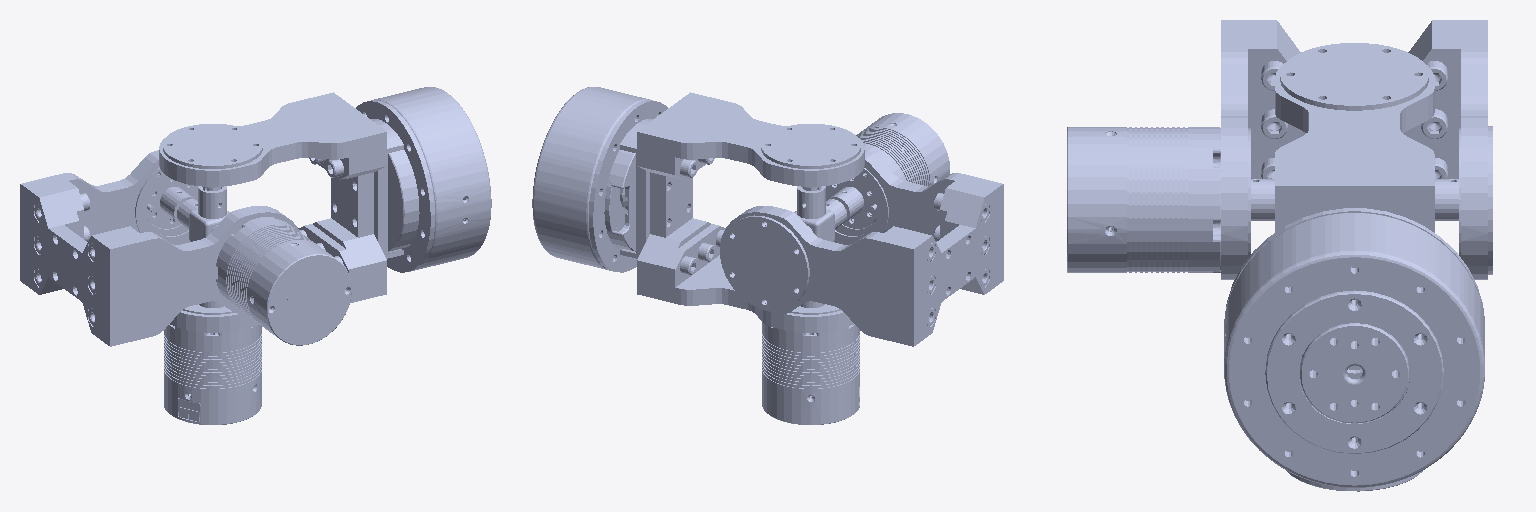
URDF robot description (LRMate_with_EndEffector):
<?xml version="1.0"?>
<robot name="LRMate_with_EndEffector">
	<material name="Yellow">
		<color rgba="1.0  1.0  0.0  1.0"/>
	</material>
	<material name="Black">
		<color rgba="0.0  0.0  0.0  1.0"/>
	</material>
	<material name="Gray">
		<color rgba="0.5  0.5  0.5  1.0"/>
	</material>
	<material name="White">
		<color rgba="1.0  1.0  1.0  1.0"/>
	</material>

	<link name="base">
		<inertial>
			<origin xyz="0.0  0.0  0.0" rpy="0.0  0.0  0.0"/>
			<mass value="0.1"/>
			<inertia ixx="0.0"  ixy="0.0"  ixz="0.0" iyy="0.0" iyz="0.0" izz="0.0" />
		</inertial>
		<visual name="base">
			<origin xyz="0.000   0.000   0.330" rpy="0.0  0.0  0.0"/>
			<geometry>
				<mesh filename="CAD/base.stl" scale="0.001   0.001   0.001"/>
			</geometry>
			<material name="Gray"/>
		</visual>
		<collision>
			<origin xyz="0.000   0.000   0.330" rpy="0.0  0.0  0.0"/>
			<geometry>
				<mesh filename="CAD/base.stl" scale="0.001   0.001   0.001"/>
			</geometry>
		</collision>
	</link>
	<joint name="joint_1" type="revolute">
		<origin xyz="0.000   0.000   0.330" rpy="0.0000000000000000    0.0000000000000000    0.0000000000000000"/>
		<parent link="base"/>
		<child link="link_1"/>
		<axis xyz="0 0 1"/>
		<limit effort="224.1470270270270646" lower="-3.1415926535897931" upper="3.1415926535897931" velocity="0.8726646259971648"/>
	</joint>
	<link name="link_1">
		<inertial>
			<origin xyz="0.0185909590000000    0.0033700950000000   -0.0770907100000000" rpy="-1.5707963267948966    0.0000000000000000    0.0000000000000000"/>
			<mass value="2.3984700000000001"/>
			<inertia ixx="0.0233179728630000"  ixy="0.0000000000000000"  ixz="0.0000000000000000" iyy="0.0193776178710000" iyz="0.0000000000000000" izz="0.0139141526340000" />
		</inertial>
		<visual name="link_1">
			<origin xyz="0.050   0.000   0.000" rpy="-1.5707963267948966    0.0000000000000000    0.0000000000000000"/>
			<geometry>
				<mesh filename="CAD/link1.stl" scale="0.001   0.001   0.001"/>
			</geometry>
			<material name="Yellow"/>
		</visual>
		<collision>
			<origin xyz="0.050   0.000   0.000" rpy="-1.5707963267948966    0.0000000000000000    0.0000000000000000"/>
			<geometry>
				<mesh filename="CAD/link1.stl" scale="0.001   0.001   0.001"/>
			</geometry>
		</collision>
	</link>
	<joint name="joint_2" type="revolute">
		<origin xyz="0.050   0.000   0.000" rpy="-1.5707963267948966    0.0000000000000000    0.0000000000000000"/>
		<parent link="link_1"/>
		<child link="link_2"/>
		<axis xyz="0 0 1"/>
		<limit effort="236.6760000000000161" lower="-3.1415926535897931" upper="3.1415926535897931" velocity="0.8726646259971648"/>
	</joint>
	<link name="link_2">
		<inertial>
			<origin xyz="-0.0071079890000000   -0.1326139250000000    0.0247800790000000" rpy="3.1415926535897931    0.0000000000000000   -1.5707963267948966"/>
			<mass value="7.8018689999999999"/>
			<inertia ixx="0.0328971739050000"  ixy="0.0000000000000000"  ixz="0.0000000000000000" iyy="0.2070365793270000" iyz="0.0000000000000000" izz="0.1883991938960000" />
		</inertial>
		<visual name="link_2">
			<origin xyz="0.000  -0.440   0.000" rpy="3.1415926535897931    0.0000000000000000   -1.5707963267948966"/>
			<geometry>
				<mesh filename="CAD/link2.stl" scale="0.001   0.001   0.001"/>
			</geometry>
			<material name="Yellow"/>
		</visual>
		<collision>
			<origin xyz="0.000  -0.440   0.000" rpy="3.1415926535897931    0.0000000000000000   -1.5707963267948966"/>
			<geometry>
				<mesh filename="CAD/link2.stl" scale="0.001   0.001   0.001"/>
			</geometry>
		</collision>
	</link>
	<joint name="joint_3" type="revolute">
		<origin xyz="0.000  -0.440   0.000" rpy="3.1415926535897931    0.0000000000000000   -1.5707963267948966"/>
		<parent link="link_2"/>
		<child link="link_3"/>
		<axis xyz="0 0 1"/>
		<limit effort="94.9241379310344939" lower="-3.1415926535897931" upper="3.1415926535897931" velocity="0.8726646259971648"/>
	</joint>
	<link name="link_3">
		<inertial>
			<origin xyz="0.0057931330000000   -0.0059066300000000   -0.0207324280000000" rpy="-1.5707963267948966    0.0000000000000000    0.0000000000000000"/>
			<mass value="2.9847210000000000"/>
			<inertia ixx="0.0081019474240000"  ixy="0.0000000000000000"  ixz="0.0000000000000000" iyy="0.0068697082660000" iyz="0.0000000000000000" izz="0.0079818513480000" />
		</inertial>
		<visual name="link_3">
			<origin xyz="0.035   0.000   0.000" rpy="-1.5707963267948966    0.0000000000000000    0.0000000000000000"/>
			<geometry>
				<mesh filename="CAD/link3.stl" scale="0.001   0.001   0.001"/>
			</geometry>
			<material name="Yellow"/>
		</visual>
		<collision>
			<origin xyz="0.035   0.000   0.000" rpy="-1.5707963267948966    0.0000000000000000    0.0000000000000000"/>
			<geometry>
				<mesh filename="CAD/link3.stl" scale="0.001   0.001   0.001"/>
			</geometry>
		</collision>
	</link>
	<joint name="joint_4" type="revolute">
		<origin xyz="0.035   0.000   0.000" rpy="-1.5707963267948966    0.0000000000000000    0.0000000000000000"/>
		<parent link="link_3"/>
		<child link="link_4"/>
		<axis xyz="0 0 1"/>
		<limit effort="23.8998260869565229" lower="-3.1415926535897931" upper="3.1415926535897931" velocity="0.8726646259971648"/>
	</joint>
	<link name="link_4">
		<inertial>
			<origin xyz="-0.0002457140000000    0.0028224150000000   -0.2060611280000000" rpy="1.5707963267948966    0.0000000000000000    0.0000000000000000"/>
			<mass value="4.1441780000000001"/>
			<inertia ixx="0.0529101059260000"  ixy="0.0000000000000000"  ixz="0.0000000000000000" iyy="0.0057046189630000" iyz="0.0000000000000000" izz="0.0531509714450000" />
		</inertial>
		<visual name="link_4">
			<origin xyz="0.000   0.000  -0.420" rpy="1.5707963267948966    0.0000000000000000    0.0000000000000000"/>
			<geometry>
				<mesh filename="CAD/link4.stl" scale="0.001   0.001   0.001"/>
			</geometry>
			<material name="Yellow"/>
		</visual>
		<collision>
			<origin xyz="0.000   0.000  -0.420" rpy="1.5707963267948966    0.0000000000000000    0.0000000000000000"/>
			<geometry>
				<mesh filename="CAD/link4.stl" scale="0.001   0.001   0.001"/>
			</geometry>
		</collision>
	</link>
	<joint name="joint_5" type="revolute">
		<origin xyz="0.000   0.000  -0.420" rpy="1.5707963267948966    0.0000000000000000    0.0000000000000000"/>
		<parent link="link_4"/>
		<child link="link_5"/>
		<axis xyz="0 0 1"/>
		<limit effort="13.8166666666666664" lower="-3.1415926535897931" upper="3.1415926535897931" velocity="0.8726646259971648"/>
	</joint>
	<link name="link_5">
		<inertial>
			<origin xyz="0.0000480440000000   -0.0273839680000000   -0.0044381510000000" rpy="-1.5707963267948966    0.0000000000000000    0.0000000000000000"/>
			<mass value="1.7004200000000000"/>
			<inertia ixx="0.0024795564500000"  ixy="0.0000000000000000"  ixz="0.0000000000000000" iyy="0.0024375453070000" iyz="0.0000000000000000" izz="0.0012003431970000" />
		</inertial>
		<visual name="link_5">
			<origin xyz="0.000   0.000   0.000" rpy="-1.5707963267948966    0.0000000000000000    0.0000000000000000"/>
			<geometry>
				<mesh filename="CAD/link5.stl" scale="0.001   0.001   0.001"/>
			</geometry>
			<material name="Yellow"/>
		</visual>
		<collision>
			<origin xyz="0.000   0.000   0.000" rpy="-1.5707963267948966    0.0000000000000000    0.0000000000000000"/>
			<geometry>
				<mesh filename="CAD/link5.stl" scale="0.001   0.001   0.001"/>
			</geometry>
		</collision>
	</link>

	<joint name="joint_6" type="revolute">
		<origin xyz="0.000   0.000   0.000" rpy="-1.5707963267948966    0.0000000000000000    0.0000000000000000"/>
		<parent link="link_5"/>
		<child link="link_6"/>
		<axis xyz="0 0 1"/>
		<limit effort="6.8606896551724139" lower="-3.1415926535897931" upper="3.1415926535897931" velocity="0.8726646259971648"/>
	</joint>

	<link name="link_6">
		<inertial>
			<origin xyz="-0.0001200000000000    0.0000000000000000   -0.0705300000000000" rpy="3.1415926535897931    0.0000000000000000    0.0000000000000000"/>
			<mass value="0.1700000000000000"/>
			<inertia ixx="0.0000318000000000"  ixy="0.0000000000000000"  ixz="0.0000000000000000" iyy="0.0000315000000000" iyz="0.0000000000000000" izz="0.0000542000000000" />
		</inertial>
		<visual name="link_6">
			<origin xyz="0.000   0.000  -0.080" rpy="3.1415926535897931    0.0000000000000000    0.0000000000000000"/>
			<geometry>
				<mesh filename="CAD/link6.stl" scale="0.001   0.001   0.001"/>
			</geometry>
			<material name="Black"/>
		</visual>
		<collision>
			<origin xyz="0.000   0.000  -0.080" rpy="3.1415926535897931    0.0000000000000000    0.0000000000000000"/>
			<geometry>
				<mesh filename="CAD/link6.stl" scale="0.001   0.001   0.001"/>
			</geometry>
		</collision>
	</link>

	<link
			name="link_7">
			<inertial>
				<origin
					xyz="-0.000171290787506451 -0.0126337869897863 -0.0467905644521243"
					rpy="0 0 0" />
				<mass
					value="0.202658732194319" />
				<inertia
					ixx="0.000178003296111042"
					ixy="-7.20767067814015E-07"
					ixz="3.28576002264937E-08"
					iyy="0.000173700123084307"
					iyz="-4.75095298964073E-08"
					izz="0.000101568163160412" />
			</inertial>
			<visual>
				<origin
					xyz="0 0 0"
					rpy="0 0 0" />
				<geometry>
					<mesh
						filename="meshes/unijoint_base_link.STL" />
				</geometry>
				<material
					name="">
					<color
						rgba="0.792156862745098 0.819607843137255 0.933333333333333 1" />
				</material>
			</visual>
			<collision>
				<origin
					xyz="0 0 0"
					rpy="0 0 0" />
				<geometry>
					<mesh
						filename="meshes/unijoint_base_link.STL" />
				</geometry>
			</collision>
		</link>

		<joint name="joint_7" type="fixed">
			<origin xyz="0.0 0.0 -0.08" rpy="0.0 0.0 0.0"/>
			<parent link="link_6"/>
			<child link="link_7"/>
			<axis xyz="0 0 1"/>
			<limit effort="6.8606896551724139" lower="-3.1415926535897931" upper="3.1415926535897931" velocity="0.8726646259971648"/>
		</joint>

		<link
			name="link_8">
			<inertial>
				<origin
					xyz="6.79051554077492E-05 -0.00575946100172549 -0.00575946138603641"
					rpy="0 0 0" />
				<mass
					value="0.0524745804717827" />
				<inertia
					ixx="6.69135756757865E-06"
					ixy="2.56259864151031E-10"
					ixz="-2.56307038990551E-10"
					iyy="5.48021043899282E-06"
					iyz="2.43027171047389E-15"
					izz="5.48021043899282E-06" />
			</inertial>
			<visual>
				<origin
					xyz="0 0 0"
					rpy="0 3.1415926535897931 0" />
				<geometry>
					<mesh
						filename="meshes/unijoint_Link1.STL" />
				</geometry>
				<material
					name="">
					<color
						rgba="0.792156862745098 0.819607843137255 0.933333333333333 1" />
				</material>
			</visual>
			<collision>
				<origin
					xyz="0 0 0"
					rpy="0 0 0" />
				<geometry>
					<mesh
						filename="meshes/unijoint_Link1.STL" />
				</geometry>
			</collision>
		</link>

		<joint
			name="joint_8"
			type="revolute">
			<origin
				xyz="0 0 -0.094926"
				rpy="1.5708 1.5708 0" />
			<parent
				link="link_7" />
			<child
				link="link_8" />
			<axis
				xyz="0 0 1" />
			<limit effort="6.8606896551724139" lower="-3.1415926535897931" upper="3.1415926535897931" velocity="0.8726646259971648"/>
		</joint>

   		<link
			name="link_9">
			<inertial>
				<origin
					xyz="0.0773659766263879 0.000207406896203738 -0.00794899420859538"
					rpy="0 0 0" />
				<mass
					value="0.322114178119608" />
				<inertia
					ixx="0.000247912853840455"
					ixy="-1.47654340615428E-06"
					ixz="-6.47049658171434E-07"
					iyy="0.000280757545430362"
					iyz="-3.18792944742855E-07"
					izz="0.00026367612267725" />
			</inertial>
			<visual>
				<origin
					xyz="0 0 0"
					rpy="0 0 0" />
				<geometry>
					<mesh
						filename="meshes/unijoint_Link2.STL" />
				</geometry>
				<material
					name="">
					<color
						rgba="0.792156862745098 0.819607843137255 0.933333333333333 1" />
				</material>
			</visual>
			<collision>
				<origin
					xyz="0 0 0"
					rpy="0 0 0" />
				<geometry>
					<mesh
						filename="meshes/unijoint_Link2.STL" />
				</geometry>
			</collision>
		</link>

		<joint
			name="joint_9"
			type="revolute">
			<origin
				xyz="0 0 0"
				rpy="-1.5708 0 0" />
			<parent
				link="link_8" />
			<child
				link="link_9" />
			<axis
				xyz="0 0 1" />
			<limit effort="6.8606896551724139" lower="-3.1415926535897931" upper="3.1415926535897931" velocity="0.8726646259971648"/>
		</joint>


    <joint
			name="joint_10"
			type="revolute">
			<origin

				xyz="0.11 0 0"
				rpy="0 0 1.5708" />
			<parent
				link="link_9" />
			<child
				link="gripper_hand" />
			<axis
				xyz="0 1 0" />
			<limit effort="6.8606896551724139" lower="-3.1415926535897931" upper="3.1415926535897931" velocity="0.8726646259971648"/>
		</joint>



    <!-- gripper -->


	<link name="gripper_hand">
		<inertial>
			<origin rpy="0 0 0" xyz="0 0 0.04"/>
			<mass value=".81"/>
			<inertia ixx="0.1" ixy="0" ixz="0" iyy="0.1" iyz="0" izz="0.1"/>
		</inertial>
		<visual>
			<geometry>
				<mesh filename="gripper_2/visual/sensor_hand.stl" scale="0.001 0.001 0.001"/>
			</geometry>
		</visual>
		<collision>
		<geometry>
			<mesh filename="gripper_2/collision/sensor_hand.stl" scale="0.001 0.001 0.001"/>
		</geometry>

		</collision>
  	</link>

  	<link name="gripper_leftfinger">
		<contact>
			<friction_anchor/>
			<stiffness value="30000.0"/>
			<damping value="1000.0"/>
			<spinning_friction value="0.1"/>
			<!-- <rolling_friction value="0.1"/> -->
			<lateral_friction value="1.0"/>
		</contact>
		<inertial>
			<origin rpy="0 0 0" xyz="0 0.01 0.02"/>
			<mass value="0.1"/>
			<inertia ixx="0.1" ixy="0" ixz="0" iyy="0.1" iyz="0" izz="0.1"/>
		</inertial>
		<visual>
			<geometry>
				<mesh filename="gripper_2/visual/finger.stl" scale="0.001 0.001 0.001"/>
			</geometry>
		</visual>
		<collision>
			<geometry>
				<mesh filename="gripper_2/collision/finger.stl" scale="0.001 0.001 0.001"/>
			</geometry>
		</collision>
	</link>

  	<link name="gripper_rightfinger">
    	<contact>
			<friction_anchor/>
			<stiffness value="30000.0"/>
			<damping value="1000.0"/>
			<spinning_friction value="0.1"/>
			<!-- <rolling_friction value="0.1"/> -->
			<lateral_friction value="1.0"/>
		</contact>

  		<inertial>
			<origin rpy="0 0 0" xyz="0 -0.01 0.02"/>
			<mass value="0.1"/>
			<inertia ixx="0.1" ixy="0" ixz="0" iyy="0.1" iyz="0" izz="0.1"/>
		</inertial>
		<visual>
			<origin rpy="0 0 3.14159265359" xyz="0 0 0"/>
			<geometry>
				<mesh filename="gripper_2/visual/finger.stl" scale="0.001 0.001 0.001"/>
			</geometry>
		</visual>
		<collision>
			<origin rpy="0 0 3.14159265359" xyz="0 0 0"/>
			<geometry>
				<mesh filename="gripper_2/collision/finger.stl" scale="0.001 0.001 0.001"/>
			</geometry>
		</collision>
  	</link>


	<joint name="finger_joint1" type="prismatic">
		<parent link="gripper_hand"/>
		<child link="gripper_leftfinger"/>
		<origin rpy="0 -1.5707963267948966 0" xyz="-0.04 -0.150 0"/>
		<axis xyz="0 0 -1"/>
		<limit effort="1000" lower="0.0" upper="0.04" velocity="2.0"/>
	</joint>


	<joint name="finger_joint2" type="prismatic">
		<parent link="gripper_hand"/>
		<child link="gripper_rightfinger"/>
		<origin rpy="3.14159265359 -1.5707963267948966 0" xyz="0.04 -0.150 0"/>
		<axis xyz="0 0 -1"/>
		<limit effort="1000" lower="0.0" upper="0.04" velocity="2.0"/>
		<mimic joint="finger_joint1"/>
	</joint>

	<!-- grasp target -->
	<!-- <link name="grasptarget">
     	<inertial>
      		<origin rpy="0 0 0" xyz="0 0 0"/>
       		<mass value="0.001"/>
       		<inertia ixx="0.1" ixy="0" ixz="0" iyy="0.1" iyz="0" izz="0.1"/>
    	</inertial>
    	<visual>
      		<geometry>
        		<sphere radius="0.003"/>
      		</geometry>
      		<color rgba="1. 0. 0. 1.0"/>
    	</visual>
   </link> -->

	<!-- <joint name="lrmate_grasptarget_hand" type="fixed">
		<parent link="gripper_hand"/>
		<child link="grasptarget"/>
		<origin rpy="1.5707963267948966 -1.5707963267948966 0" xyz="0 -0.245 0"/>
	</joint> -->


</robot>

--- Facts derived from the render (not from the file) ---
Views: 3 orthographic renders of the robot side by side, from view 1: azimuth 30°, elevation 25°; view 2: azimuth 150°, elevation 25°; view 3: azimuth 270°, elevation 25°.
Model LRMate_with_EndEffector with 13 links and 12 joints (9 revolute, 2 prismatic, 1 fixed), rooted at base, posed all joints at 0.
Visible links, largest first — view 1: link_9, link_7, link_8; view 2: link_9, link_7, link_8; view 3: link_9, link_7, link_8.
Boxes of the visible links, left/top/right/bottom form: link_9: left=159, top=87, right=491, bottom=424; link_7: left=20, top=150, right=351, bottom=346; link_8: left=147, top=176, right=229, bottom=307; link_9: left=532, top=87, right=864, bottom=424; link_7: left=720, top=113, right=1003, bottom=346; link_8: left=794, top=176, right=876, bottom=307; link_9: left=1224, top=43, right=1484, bottom=491; link_7: left=1067, top=20, right=1492, bottom=279; link_8: left=1251, top=179, right=1458, bottom=220.
Size in the robot's own frame: 0.2495 by 0.16 by 0.16 metres.
3 mesh visuals loaded from 12 distinct referenced files (3 binary STL); not drawn: 10 (reference not matched to a file when rendering).